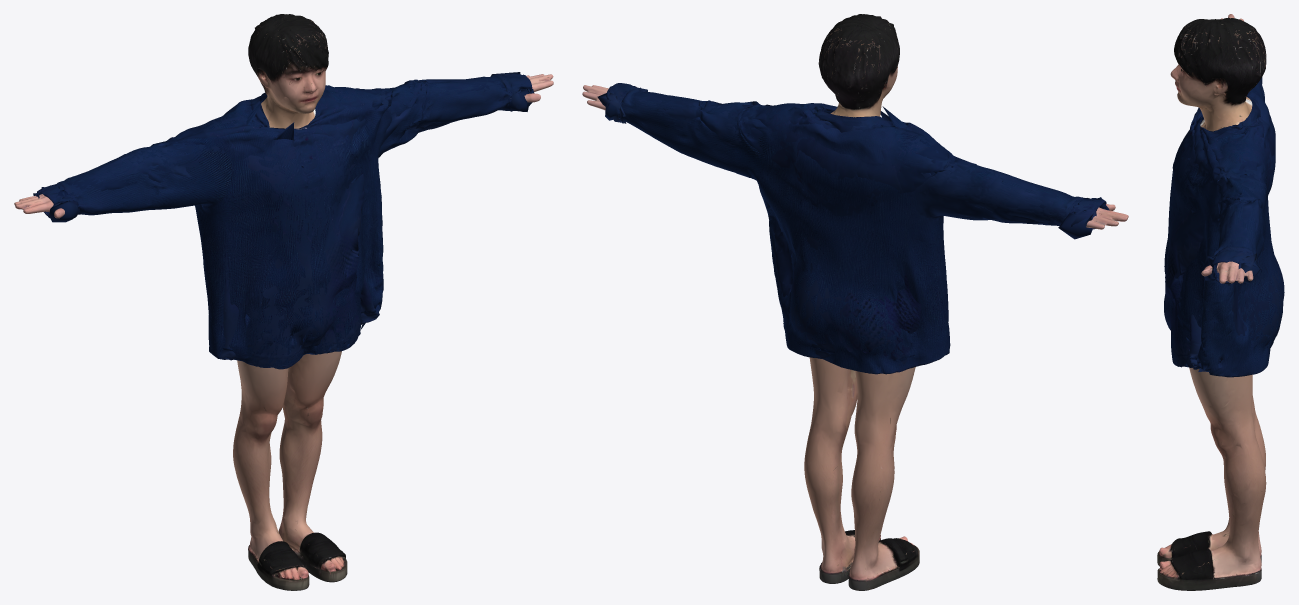
The model's file is f0967cbf-1ba8-4cf8-b1e5-38c4fb253d56-full.glb.
3 views of the same model, side by side, from view 1: azimuth 30°, elevation 25°; view 2: azimuth 150°, elevation 25°; view 3: azimuth 270°, elevation 25° (orthographic).
Visible parts, largest first — view 1: Mesh_0.001, Body_Feet; view 2: Mesh_0.001, Body_Feet; view 3: Mesh_0.001, Body_Feet.
Part boxes in pixels (left/top/right/bottom): Mesh_0.001: left=33, top=72, right=533, bottom=369; Body_Feet: left=14, top=14, right=553, bottom=590; Mesh_0.001: left=597, top=83, right=1109, bottom=374; Body_Feet: left=582, top=14, right=1128, bottom=590; Mesh_0.001: left=1164, top=77, right=1284, bottom=377; Body_Feet: left=1157, top=14, right=1266, bottom=590.
Bounding box in the file's own units: 1.91 × 1.85 × 0.3861.
Materials: 2 (2 with a texture image).
